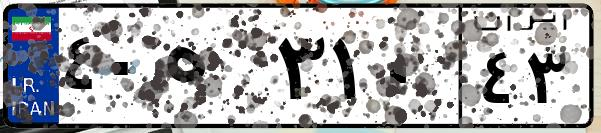0: (385, 28, 445, 110), (110, 28, 158, 98)
1: (330, 28, 385, 110)
3: (270, 28, 330, 110), (525, 38, 570, 115)
4: (57, 26, 110, 100), (475, 38, 525, 113)
ه: (158, 20, 270, 120)
